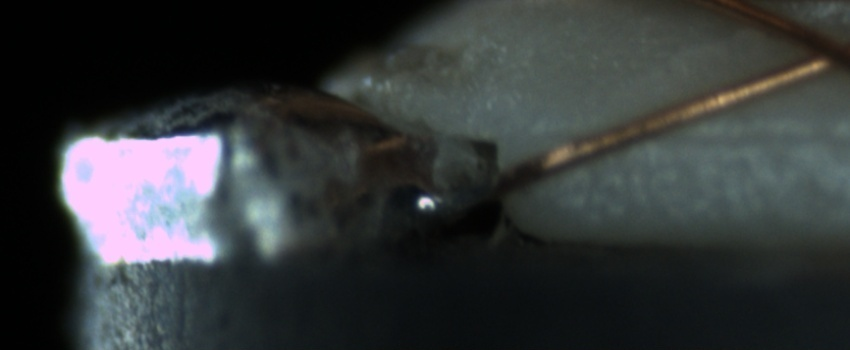CL: (772, 13, 846, 82)
DL: (630, 106, 846, 167)
